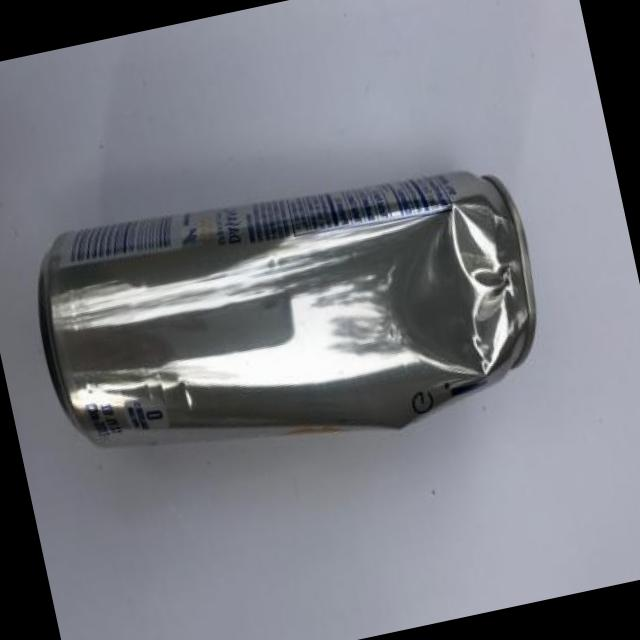kim_loai: (37, 172, 538, 450)
